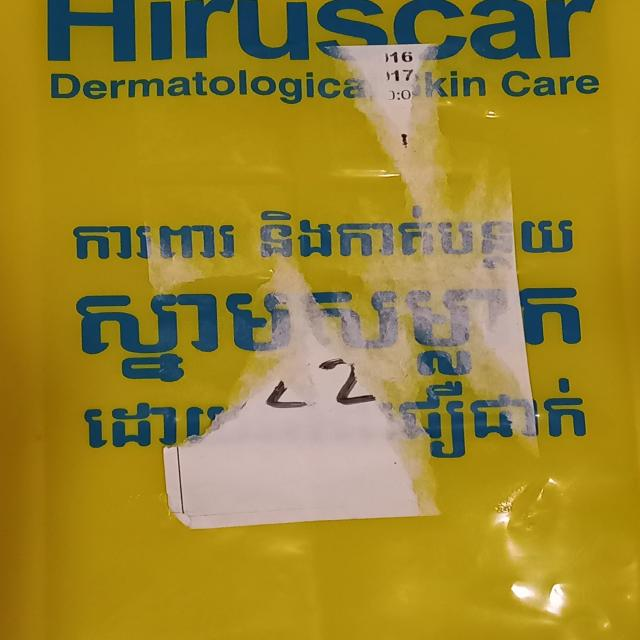1: (57, 202, 586, 269)
Yolov11_80vkh: (68, 281, 589, 384), (367, 365, 626, 478)
